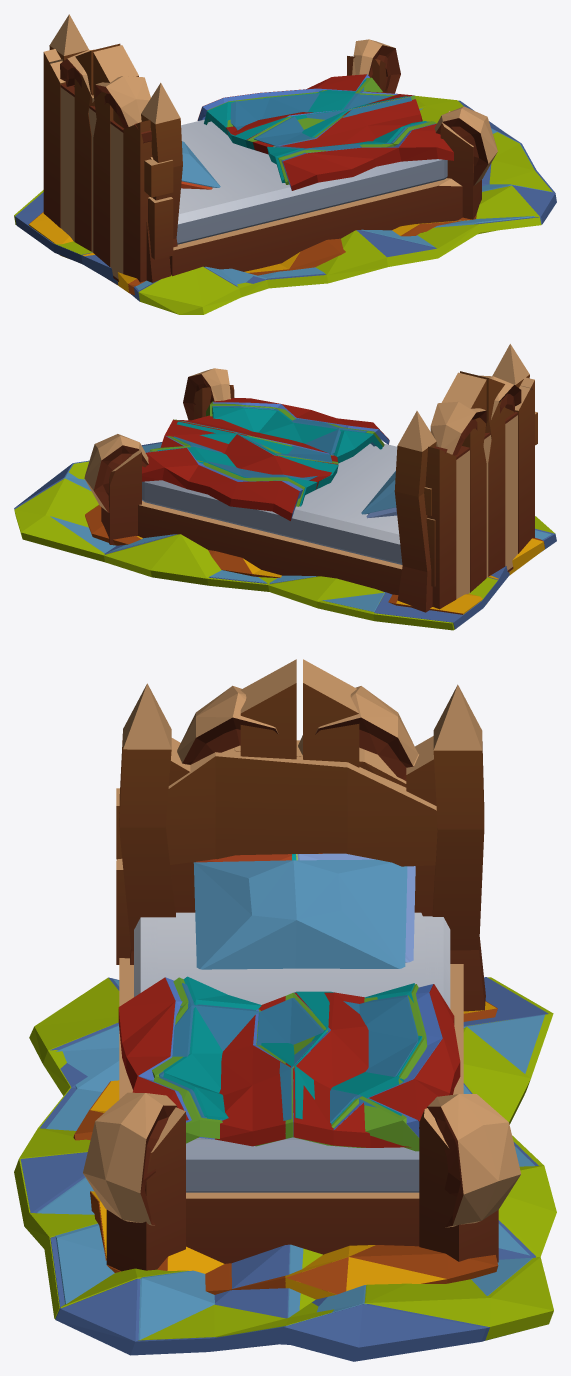
Rendered from Bed_Single.fbx.
3 renders of one model, top to bottom at view 1: azimuth 30°, elevation 25°; view 2: azimuth 150°, elevation 25°; view 3: azimuth 270°, elevation 25°, orthographic. The views are drawn at different scales.
Parts seen in each view (by area): view 1: Bed_1_Single_Upgrade_4, Bed_1_Single_Upgrade_3, Bed_1_Single_Upgrade_1, Bed_1_Single_Upgrade_5, Bed_1_Single_Upgrade_2; view 2: Bed_1_Single_Upgrade_3, Bed_1_Single_Upgrade_4, Bed_1_Single_Upgrade_1, Bed_1_Single_Upgrade_5, Bed_1_Single_Upgrade_2; view 3: Bed_1_Single_Upgrade_4, Bed_1_Single_Upgrade_3, Bed_1_Single_Upgrade_5, Bed_1_Single_Upgrade_1, Bed_1_Single_Upgrade_2.
Boxes of the visible parts, box(x1,y1,x2,y2) form: Bed_1_Single_Upgrade_4: box(15, 43, 556, 301); Bed_1_Single_Upgrade_3: box(14, 14, 552, 314); Bed_1_Single_Upgrade_1: box(28, 74, 476, 295); Bed_1_Single_Upgrade_5: box(48, 39, 552, 290); Bed_1_Single_Upgrade_2: box(29, 74, 471, 292); Bed_1_Single_Upgrade_3: box(14, 344, 554, 630); Bed_1_Single_Upgrade_4: box(14, 371, 556, 629); Bed_1_Single_Upgrade_1: box(85, 398, 544, 614); Bed_1_Single_Upgrade_5: box(50, 368, 551, 611); Bed_1_Single_Upgrade_2: box(86, 401, 544, 614); Bed_1_Single_Upgrade_4: box(20, 659, 548, 1361); Bed_1_Single_Upgrade_3: box(14, 683, 556, 1340); Bed_1_Single_Upgrade_5: box(37, 685, 544, 1339); Bed_1_Single_Upgrade_1: box(73, 788, 498, 1294); Bed_1_Single_Upgrade_2: box(90, 853, 496, 1299).
Bounding box in the file's own units: 291 × 133 × 180.
